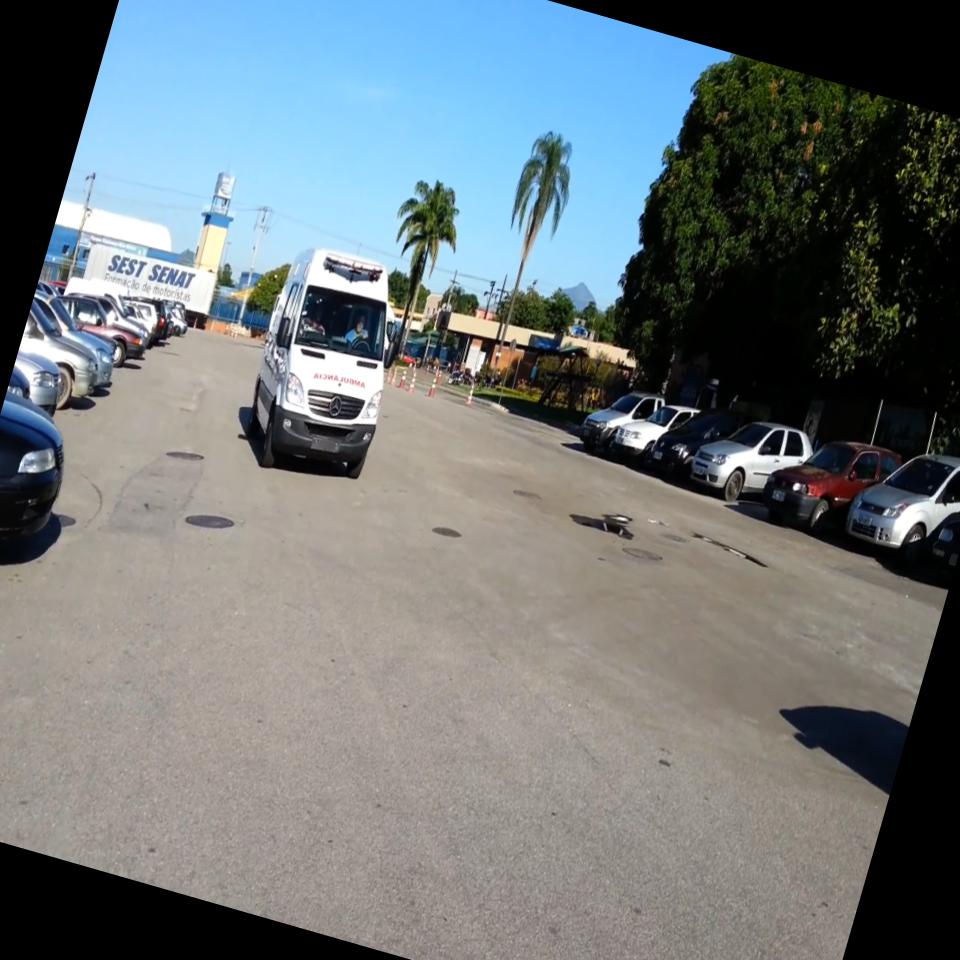bombeiro: (230, 234, 422, 494)
